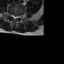CCS_severe_stenosis: (14, 14, 16, 21)
LFS_normal: (18, 14, 20, 19)
LLS_normal: (16, 14, 18, 20)
RFS_normal: (10, 12, 12, 18)
RLS_normal: (12, 13, 14, 20)
